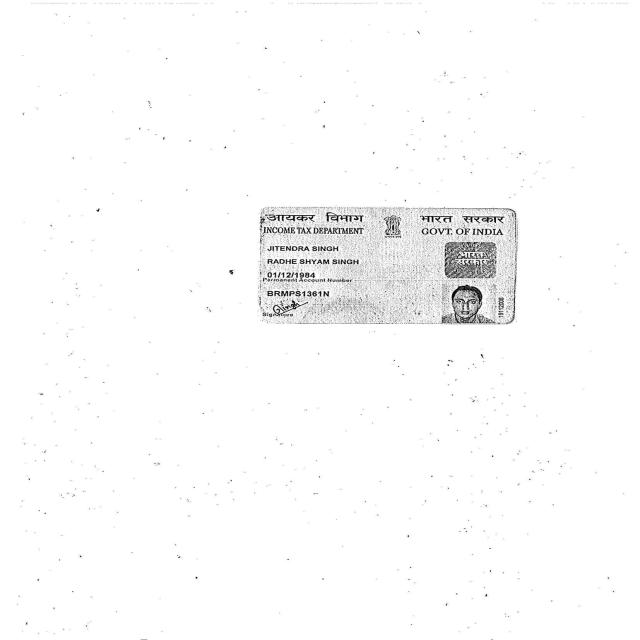pan_card: (257, 207, 515, 326)
